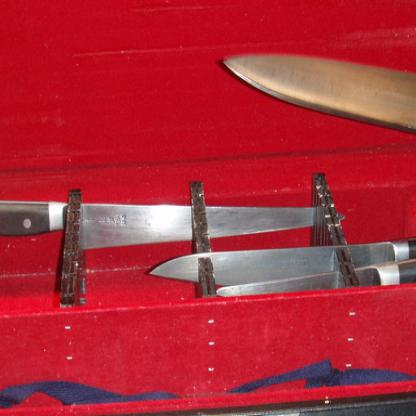knife: (215, 64, 415, 170), (0, 200, 343, 250), (144, 235, 415, 285), (213, 244, 415, 289)
